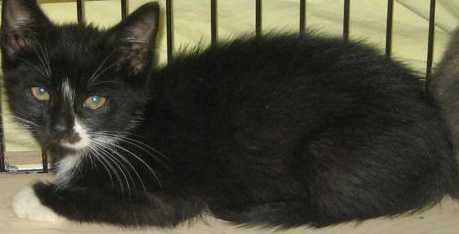Cat: (0, 0, 161, 177)
